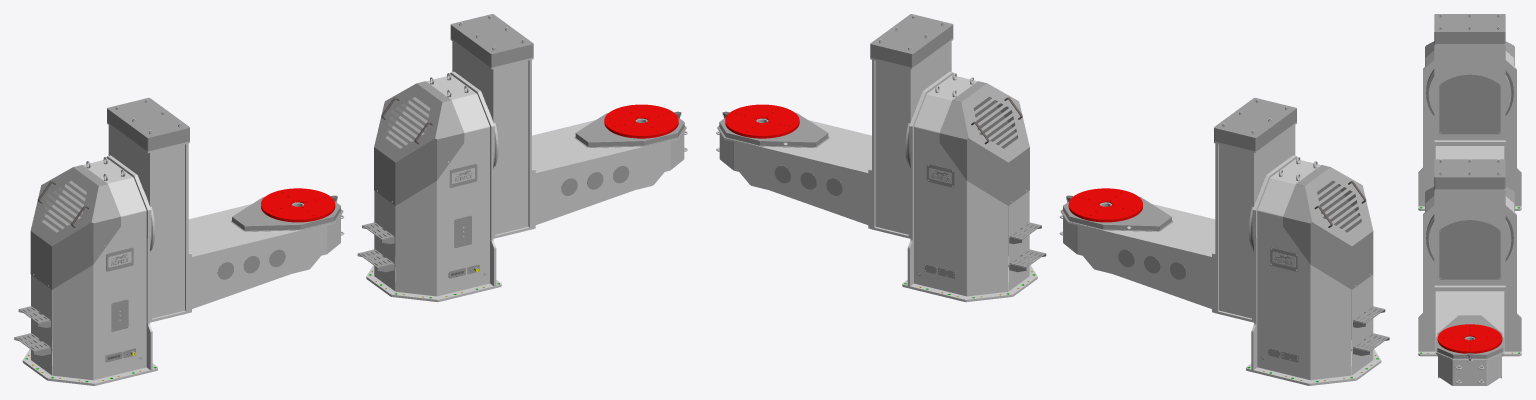
Rendered from scene-17-53-43-GMT-0500.gltf.
3 renders of one model, left to right at view 1: azimuth 30°, elevation 25°; view 2: azimuth 150°, elevation 25°; view 3: azimuth 270°, elevation 25°, orthographic. The views are drawn at different scales.
Parts seen in each view (by area): view 1: RGH_SPN-LB-5000-7500_RENDER_Simplify_1002_5 (×2), RGH_SPN-LB-5000-7500_RENDER_Simplify_1002_1 (×2), RGH_SPN-LB-5000-7500_RENDER_Simplify_1002_11 (×2); view 2: RGH_SPN-LB-5000-7500_RENDER_Simplify_1002_5 (×2), RGH_SPN-LB-5000-7500_RENDER_Simplify_1002_1 (×2), RGH_SPN-LB-5000-7500_RENDER_Simplify_1002_11 (×2); view 3: RGH_SPN-LB-5000-7500_RENDER_Simplify_1002_5 (×2), RGH_SPN-LB-5000-7500_RENDER_Simplify_1002_1 (×2), RGH_SPN-LB-5000-7500_RENDER_Simplify_1002_11, RGH_SPN-LB-5000-7500_RENDER_Simplify_1002_6 (×2), RGH_SPN-LB-5000-7500_RENDER_Simplify_1002.
Part boxes in pixels (x1=…): RGH_SPN-LB-5000-7500_RENDER_Simplify_1002_5 (×2): x1=22, y1=38, x2=686, y2=385; RGH_SPN-LB-5000-7500_RENDER_Simplify_1002_1 (×2): x1=14, y1=14, x2=685, y2=362; RGH_SPN-LB-5000-7500_RENDER_Simplify_1002_11 (×2): x1=261, y1=104, x2=678, y2=222; RGH_SPN-LB-5000-7500_RENDER_Simplify_1002_5 (×2): x1=717, y1=38, x2=1381, y2=385; RGH_SPN-LB-5000-7500_RENDER_Simplify_1002_1 (×2): x1=718, y1=14, x2=1389, y2=362; RGH_SPN-LB-5000-7500_RENDER_Simplify_1002_11 (×2): x1=725, y1=104, x2=1142, y2=222; RGH_SPN-LB-5000-7500_RENDER_Simplify_1002_5 (×2): x1=1418, y1=43, x2=1521, y2=385; RGH_SPN-LB-5000-7500_RENDER_Simplify_1002_1 (×2): x1=1425, y1=14, x2=1514, y2=359; RGH_SPN-LB-5000-7500_RENDER_Simplify_1002_11: x1=1437, y1=324, x2=1502, y2=353; RGH_SPN-LB-5000-7500_RENDER_Simplify_1002_6 (×2): x1=1426, y1=69, x2=1513, y2=261; RGH_SPN-LB-5000-7500_RENDER_Simplify_1002: x1=1439, y1=159, x2=1500, y2=383.
Bounding box in the file's own units: 3.82 × 1.27 × 0.6.
